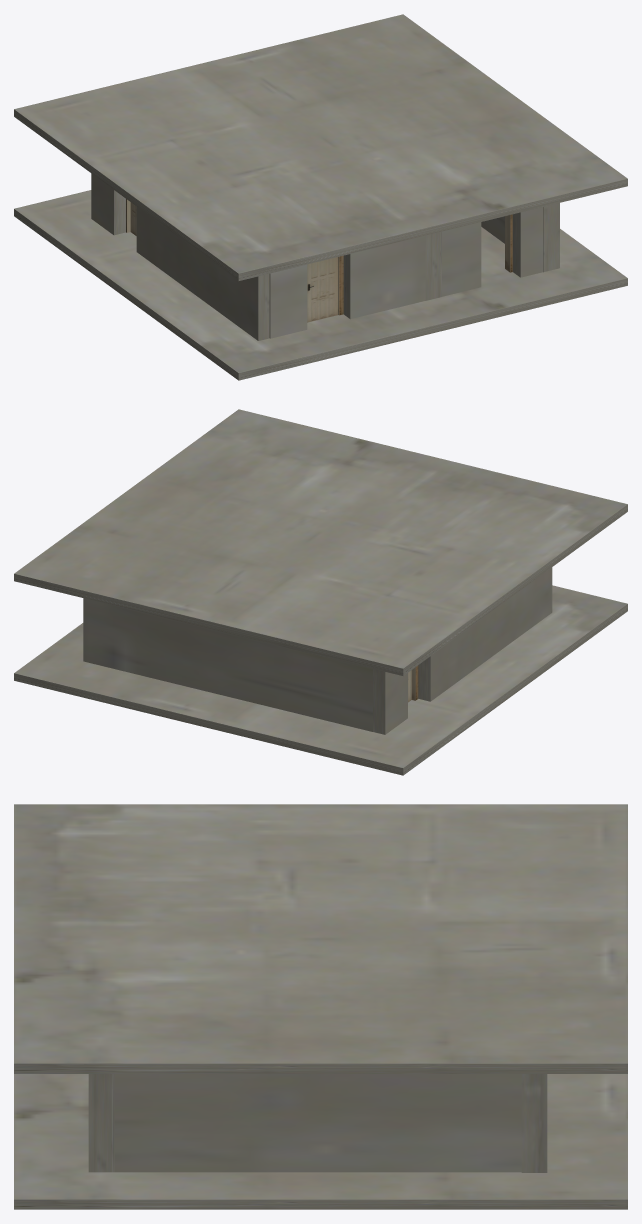
Rendered from room.glb.
3 views of the same model, one above another, from view 1: azimuth 30°, elevation 25°; view 2: azimuth 150°, elevation 25°; view 3: azimuth 270°, elevation 25° (orthographic). The views are drawn at different scales.
Parts seen in each view (by area): view 1: Cube.013, Cube, Cube.007, Cube.001, door.001, Cube.004, Cube.005; view 2: Cube.013, Cube, Cube.003, Cube.001; view 3: Cube.013, Cube.004, Cube, Cube.003, Cube.007.
Boxes of the visible parts, x1=… form: Cube.013: x1=14, y1=14, x2=627, y2=280; Cube: x1=14, y1=190, x2=627, y2=380; Cube.007: x1=269, y1=207, x2=543, y2=338; Cube.001: x1=91, y1=173, x2=269, y2=340; door.001: x1=307, y1=257, x2=338, y2=322; Cube.004: x1=481, y1=203, x2=559, y2=272; Cube.005: x1=425, y1=231, x2=441, y2=300; Cube.013: x1=14, y1=409, x2=627, y2=675; Cube: x1=14, y1=585, x2=627, y2=775; Cube.003: x1=83, y1=598, x2=372, y2=731; Cube.001: x1=373, y1=567, x2=552, y2=734; Cube.013: x1=14, y1=804, x2=627, y2=1073; Cube.004: x1=88, y1=1074, x2=521, y2=1172; Cube: x1=14, y1=1074, x2=627, y2=1209; Cube.003: x1=521, y1=1074, x2=547, y2=1172; Cube.007: x1=89, y1=1074, x2=114, y2=1172.
Size of the model in its own units: 11.11 by 3.01 by 11.11.
9 materials, 9 textured.
